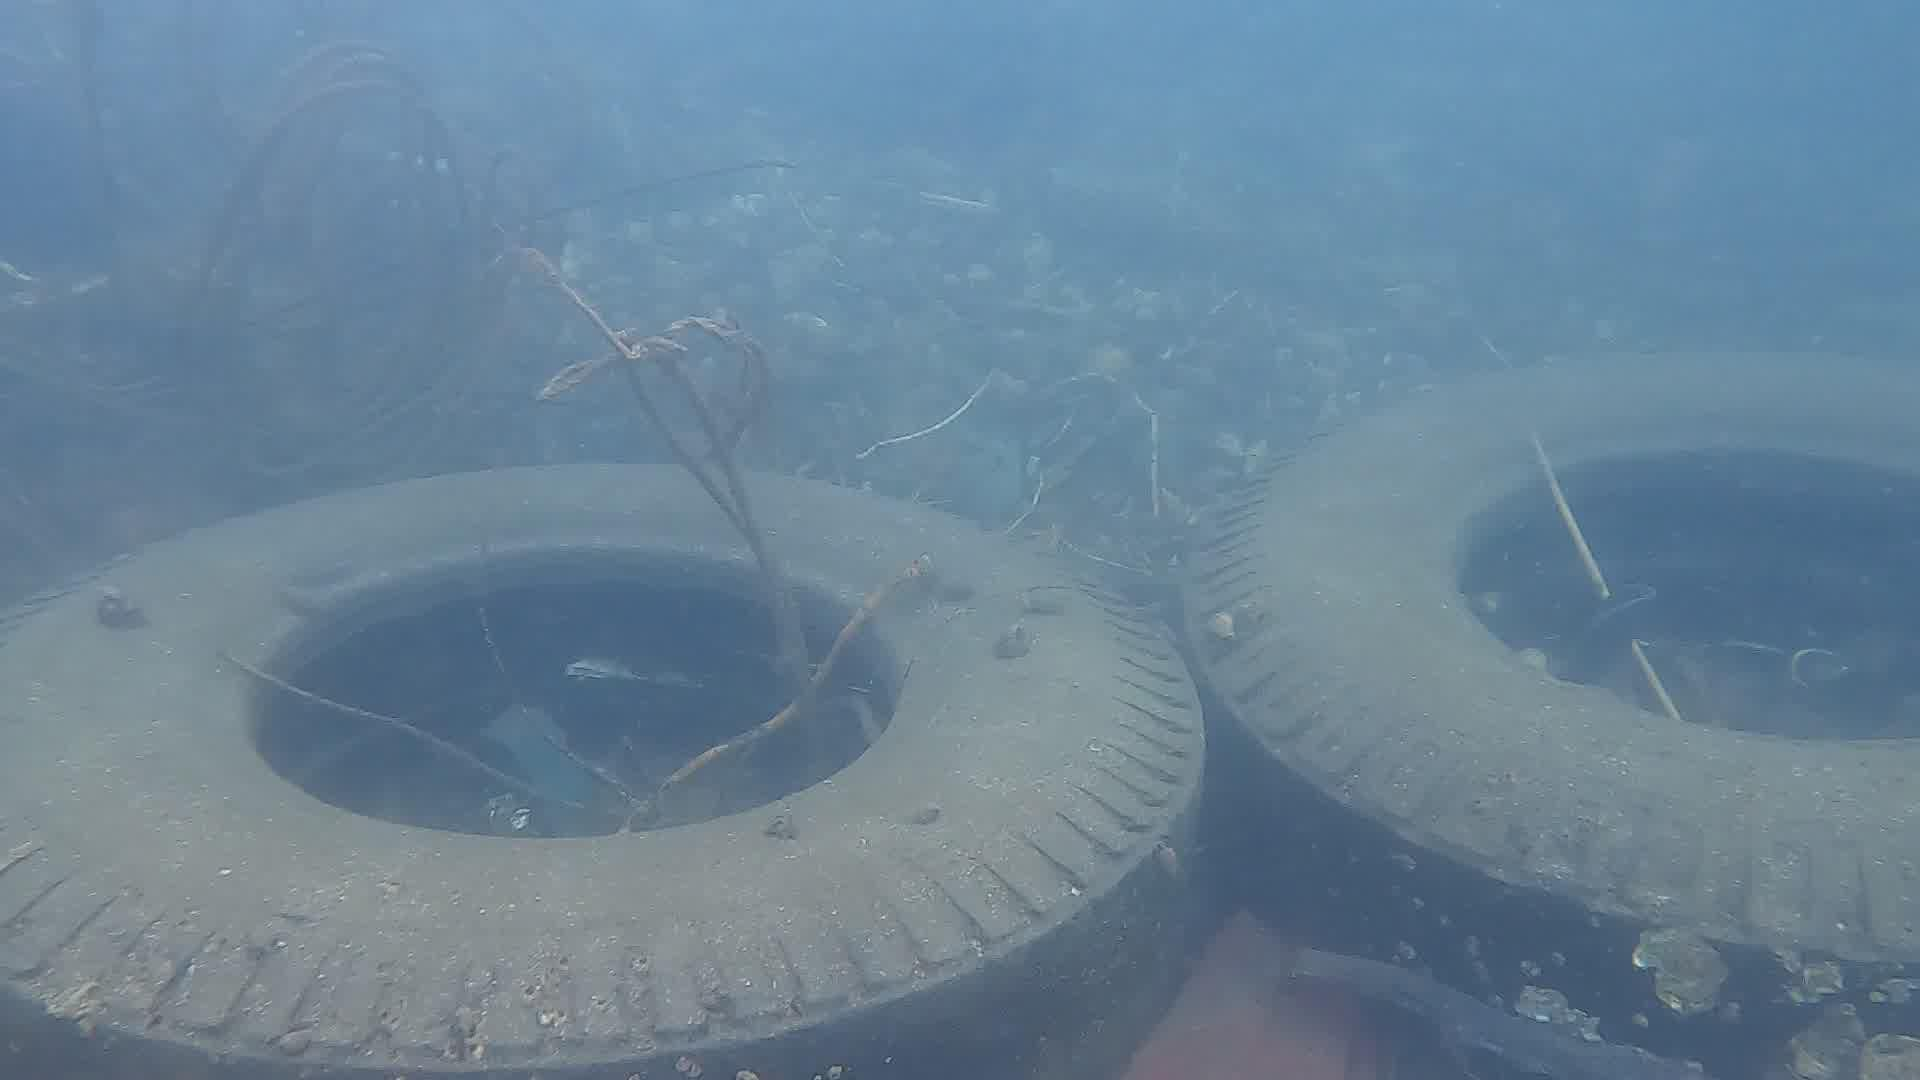bundle of ropes: (0, 0, 539, 456), (530, 284, 918, 822)
tire: (0, 462, 1211, 1080), (1182, 344, 1920, 1080)
